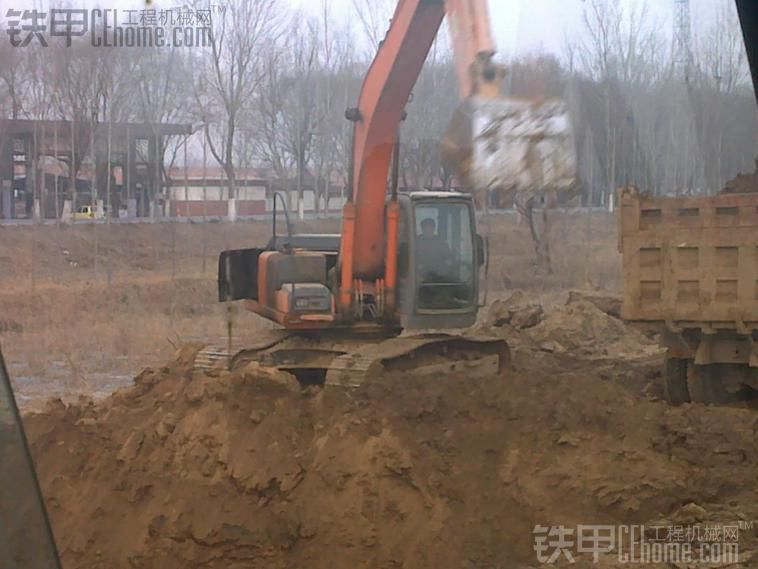excavator: (187, 1, 621, 383)
